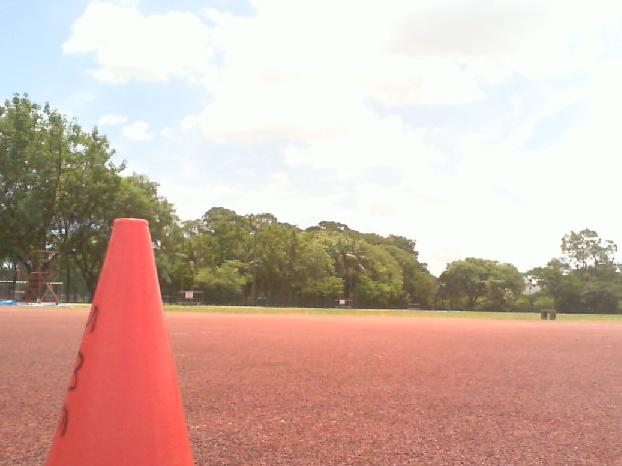0 cone: (43, 219, 197, 466)
